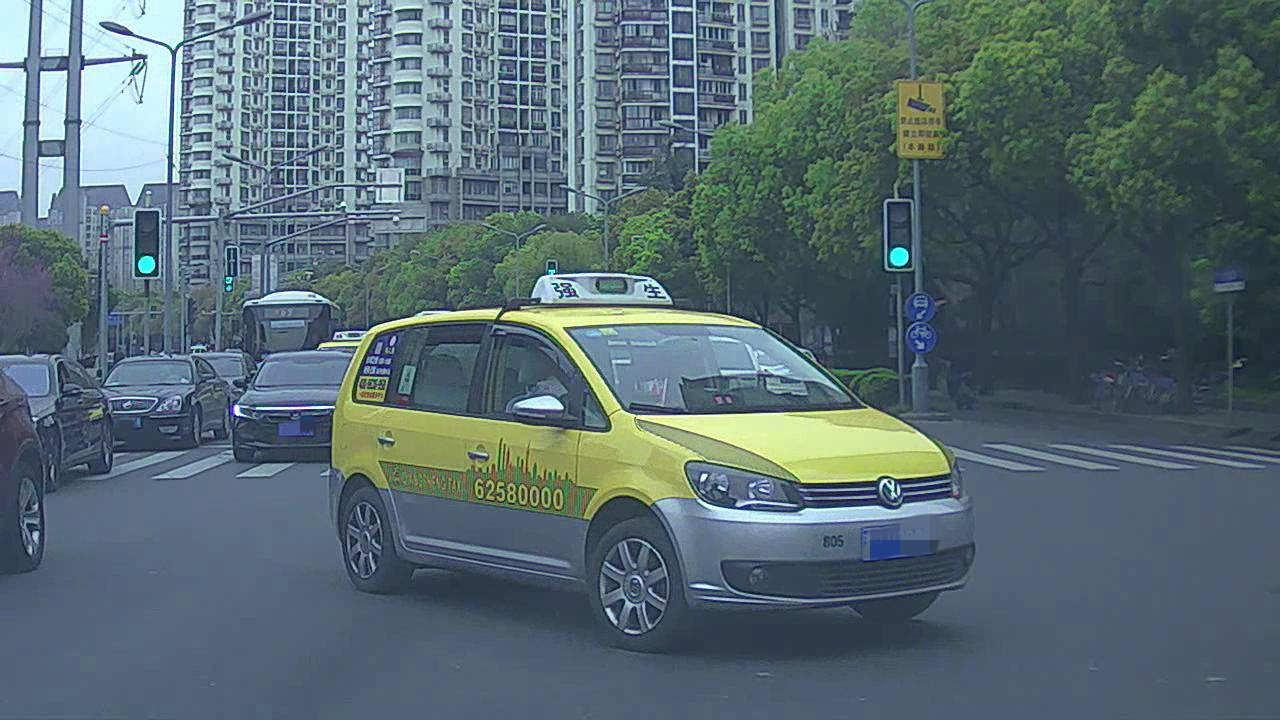traffic_light: (885, 203, 916, 272), (135, 209, 163, 279)
